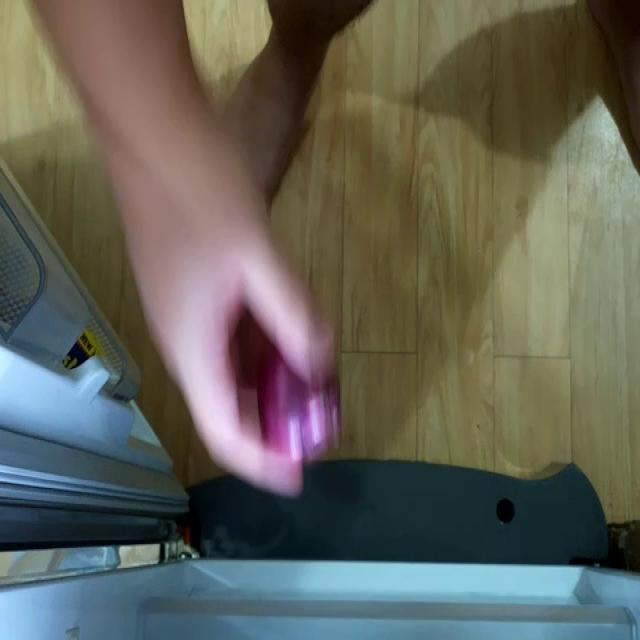onion: (258, 348, 340, 454)
